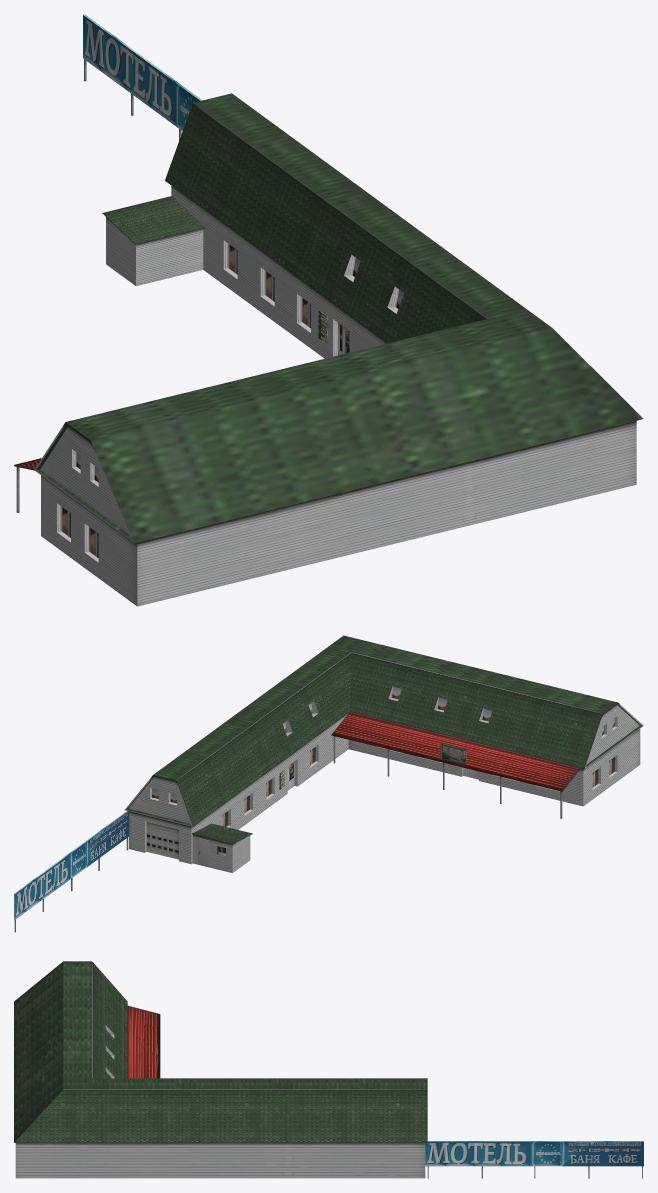
Rendered from Motel.fbx.
The picture shows the model from 3 angles, top to bottom: view 1: azimuth 30°, elevation 25°; view 2: azimuth 150°, elevation 25°; view 3: azimuth 270°, elevation 25°; orthographic projection. The views are drawn at different scales.
Parts seen in each view (by area): view 1: Motel; view 2: Motel; view 3: Motel.
Boxes of the visible parts, bbox=[...] form: Motel: bbox=[14, 14, 643, 606]; Motel: bbox=[14, 635, 643, 932]; Motel: bbox=[14, 961, 643, 1178].
Bounding box in the file's own units: 133 × 33.93 × 250.
